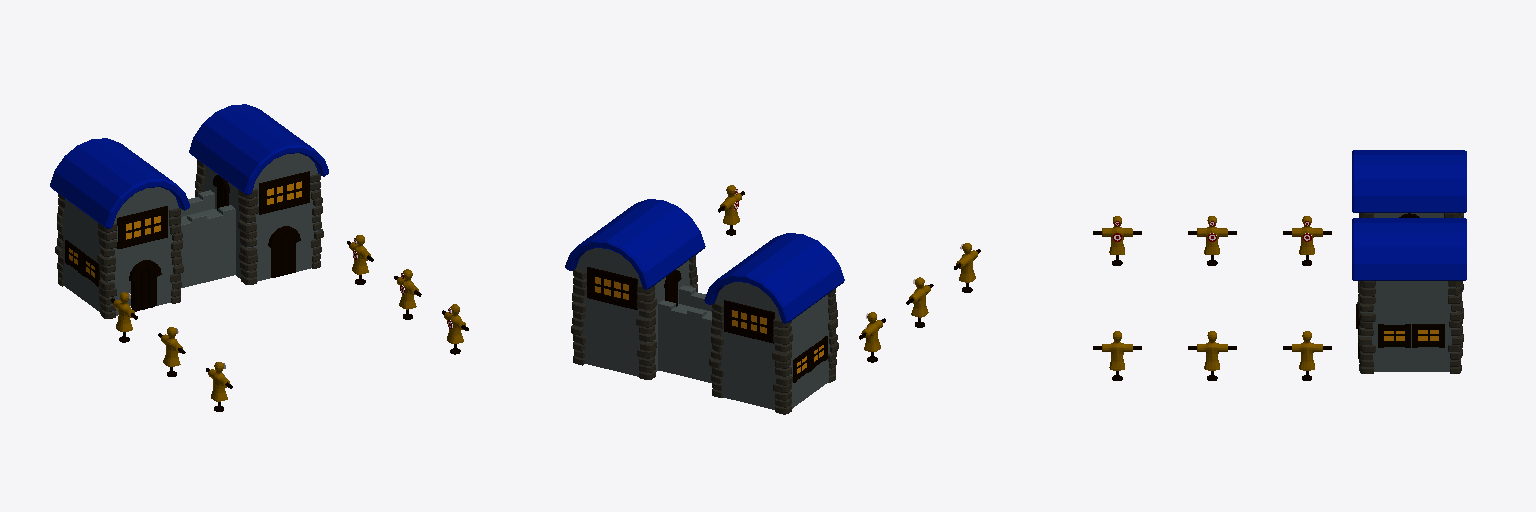
The model's file is GuardsBarracks_BlueTeam.obj.
3 renders of one model, left to right at view 1: azimuth 30°, elevation 25°; view 2: azimuth 150°, elevation 25°; view 3: azimuth 270°, elevation 25°, orthographic.
Parts seen in each view (by area): view 1: GuardBarracks_BlueTeam_Cylinder.015; view 2: GuardBarracks_BlueTeam_Cylinder.015; view 3: GuardBarracks_BlueTeam_Cylinder.015.
Boxes of the visible parts, x1=… form: GuardBarracks_BlueTeam_Cylinder.015: x1=50, y1=104, x2=468, y2=411; GuardBarracks_BlueTeam_Cylinder.015: x1=565, y1=185, x2=980, y2=414; GuardBarracks_BlueTeam_Cylinder.015: x1=1093, y1=150, x2=1466, y2=380.
Bounding box in the file's own units: 21.2 × 10.84 × 27.61.